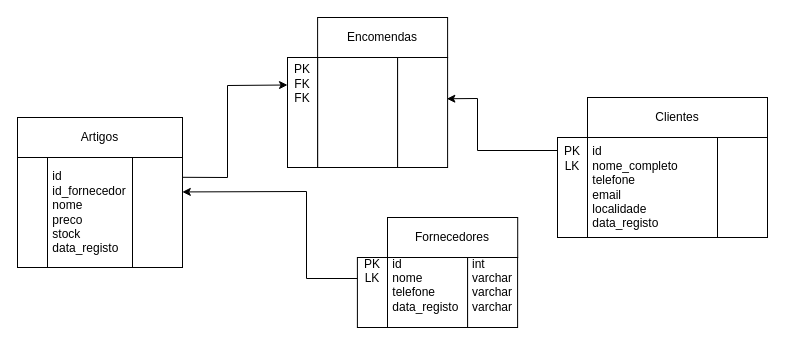
Some shapes in this 785 by 346 pixel diagram are drawn without their labels. The box of each missing label's shape, as (x1, y1, x2, y2) in pixels:
id id_artigo id_cliente quantidade valor estado data_registo: (317, 56, 398, 168)
int int int int varchar varchar varchar: (397, 56, 448, 168)
int int varchar int int varchar: (132, 156, 182, 268)
int varchar int varchar varchar varchar: (716, 136, 768, 238)
PK FK LK: (16, 156, 48, 268)
